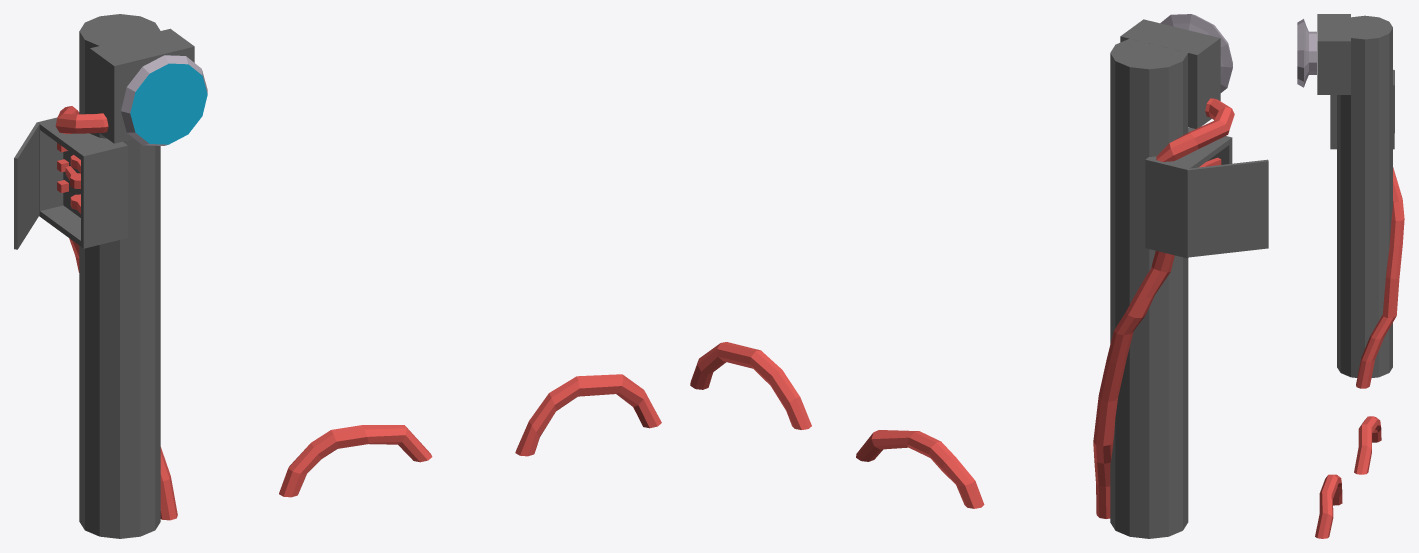
The model's file is Button _Wires.fbx.
3 views of the same model, side by side, from view 1: azimuth 30°, elevation 25°; view 2: azimuth 150°, elevation 25°; view 3: azimuth 270°, elevation 25° (orthographic). The views are drawn at different scales.
Parts seen in each view (by area): view 1: MainPost, Button, Wire_2, Wire_1, Wire_Down; view 2: MainPost, Wire_Down, Wire_2, Wire_1, Button; view 3: MainPost, Wire_Down, Wire_2, Button, Wire_1.
Boxes of the visible parts, x1,y1,x2,y2 form: MainPost: (14,14,194,538); Button: (121,55,207,145); Wire_2: (515,374,661,456); Wire_1: (279,425,432,497); Wire_Down: (69,238,177,520); MainPost: (1110,19,1268,538); Wire_Down: (1093,251,1174,518); Wire_2: (690,342,811,429); Wire_1: (856,430,984,508); Button: (1160,14,1232,92); MainPost: (1317,14,1394,377); Wire_Down: (1356,167,1404,388); Wire_2: (1315,474,1342,538); Button: (1297,19,1316,87); Wire_1: (1354,416,1381,474).
Size of the model in its own units: 1774 by 1405 by 381.
